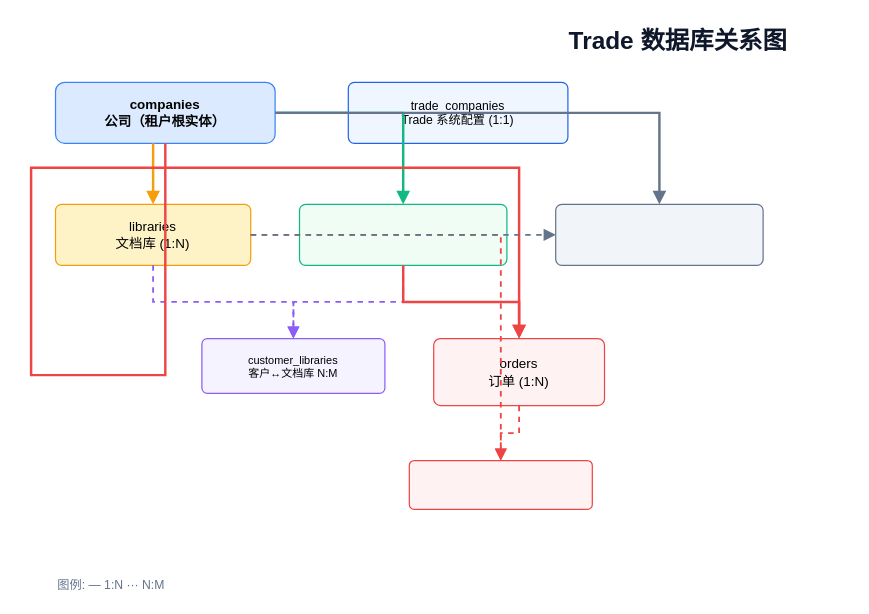
Image size: 869x614. Some labels were removed from this diagram. Here are the shapes that lost their labels. From the top down, the centre of each, then its label:
the point at 402,234: customers 客户 / 联系人 (1:N)
the point at 658,234: conversations 对话记录 (1:N)
the point at 500,484: order_libraries 订单↔文档库 N:M
